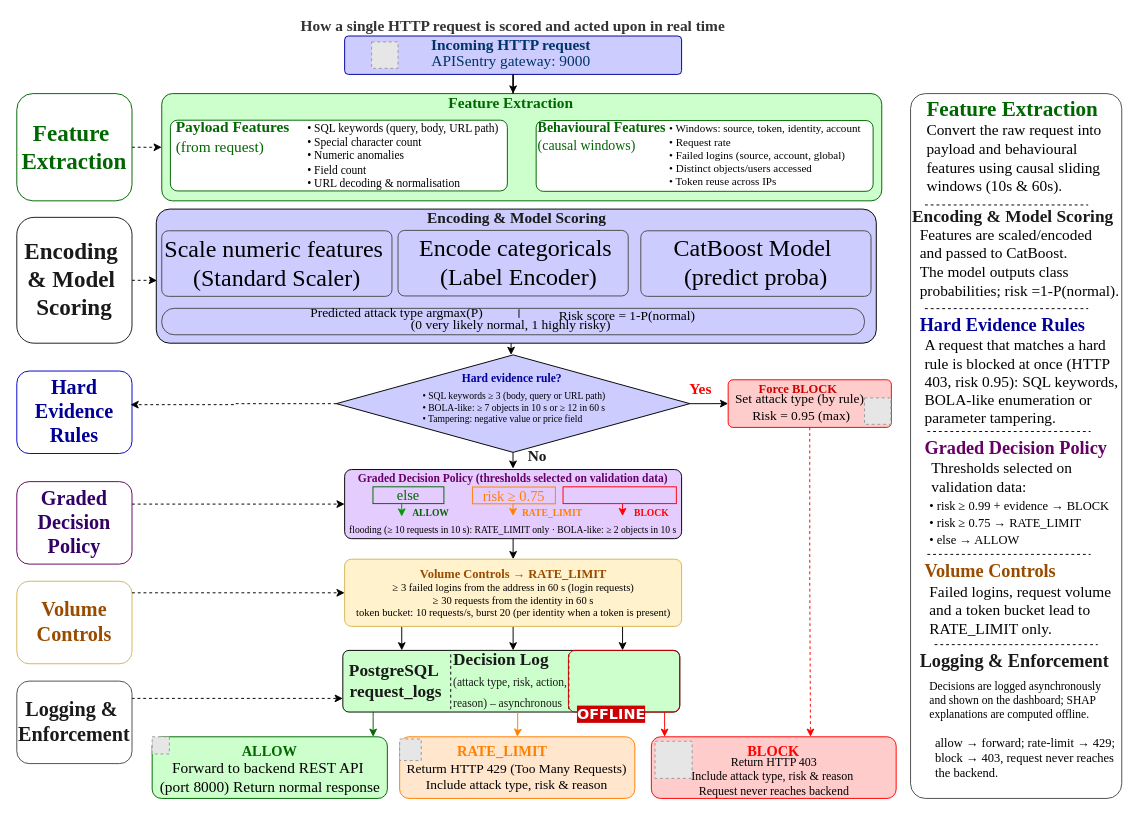
Image size: 1139x816. Some labels were removed from this diagram. Grey dashed boxes stand in for pictures. Each missing label, with the centre of its shape:
risk ≥ 0.99 + evidence: pixel 619 495
SHAP Explanation (Why this decision?): pixel 623 680
